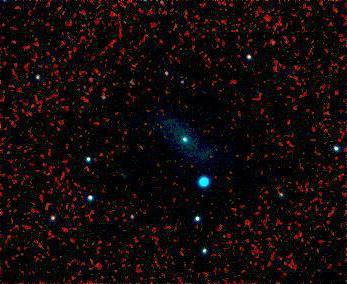star: (254, 26, 284, 56)
